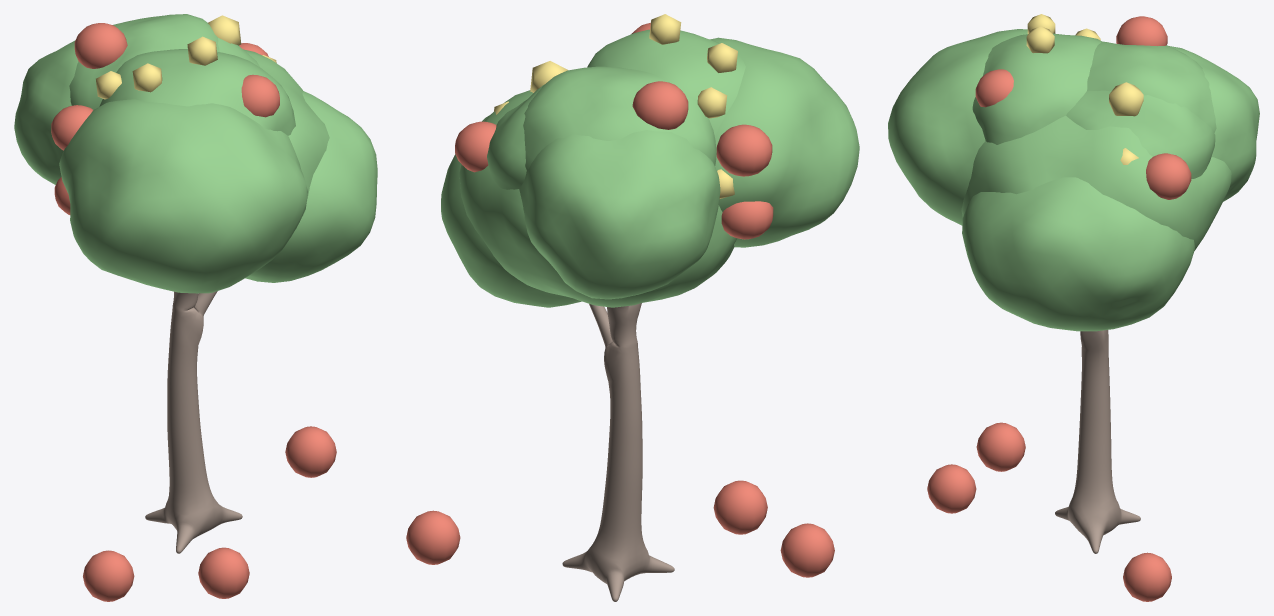
Rendered from tree_young_1.glb.
3 views of the same model, side by side, from view 1: azimuth 30°, elevation 25°; view 2: azimuth 150°, elevation 25°; view 3: azimuth 270°, elevation 25° (orthographic). The views are drawn at different scales.
Visible parts, largest first — view 1: leaf_3, leaf_1, trunk, leaf_5, fallen, leaf_2, leaf_4, leaf_0, blossom, fruit_2, fruit_7, fruit_3; view 2: leaf_2, leaf_3, trunk, leaf_4, leaf_0, fallen, leaf_5, leaf_1, blossom, leaf_6, fruit_3, fruit_2 (+2 smaller); view 3: leaf_1, leaf_0, leaf_3, leaf_5, trunk, leaf_4, leaf_6, fallen, leaf_2, blossom, fruit_0, fruit_2 (+1 smaller).
Part boxes in pixels (bbox=[...]): leaf_3: bbox=[59, 99, 307, 293]; leaf_1: bbox=[245, 91, 377, 282]; trunk: bbox=[145, 291, 242, 553]; leaf_5: bbox=[99, 49, 295, 135]; fallen: bbox=[83, 426, 336, 601]; leaf_2: bbox=[14, 40, 78, 184]; leaf_4: bbox=[69, 14, 219, 109]; leaf_0: bbox=[243, 49, 329, 229]; blossom: bbox=[96, 15, 276, 99]; fruit_2: bbox=[74, 23, 127, 68]; fruit_7: bbox=[241, 74, 279, 117]; fruit_3: bbox=[51, 105, 93, 150]; leaf_2: bbox=[519, 130, 720, 299]; leaf_3: bbox=[710, 37, 859, 247]; trunk: bbox=[562, 303, 674, 601]; leaf_4: bbox=[523, 66, 716, 170]; leaf_0: bbox=[459, 90, 736, 307]; fallen: bbox=[406, 480, 834, 577]; leaf_5: bbox=[587, 29, 745, 136]; leaf_1: bbox=[441, 115, 581, 307]; blossom: bbox=[494, 14, 737, 198]; leaf_6: bbox=[487, 84, 544, 189]; fruit_3: bbox=[716, 124, 772, 176]; fruit_2: bbox=[632, 81, 688, 129]; leaf_1: bbox=[962, 177, 1194, 331]; leaf_0: bbox=[961, 116, 1231, 250]; leaf_3: bbox=[888, 29, 1027, 225]; leaf_5: bbox=[972, 33, 1101, 144]; trunk: bbox=[1055, 330, 1140, 553]; leaf_4: bbox=[1087, 41, 1216, 132]; leaf_6: bbox=[1066, 90, 1215, 178]; fallen: bbox=[927, 422, 1171, 601]; leaf_2: bbox=[1169, 46, 1259, 201]; blossom: bbox=[1026, 14, 1143, 164]; fruit_0: bbox=[1146, 153, 1191, 199]; fruit_2: bbox=[1116, 16, 1167, 46].
Size of the model in its own units: 2.24 by 3.38 by 2.29.
